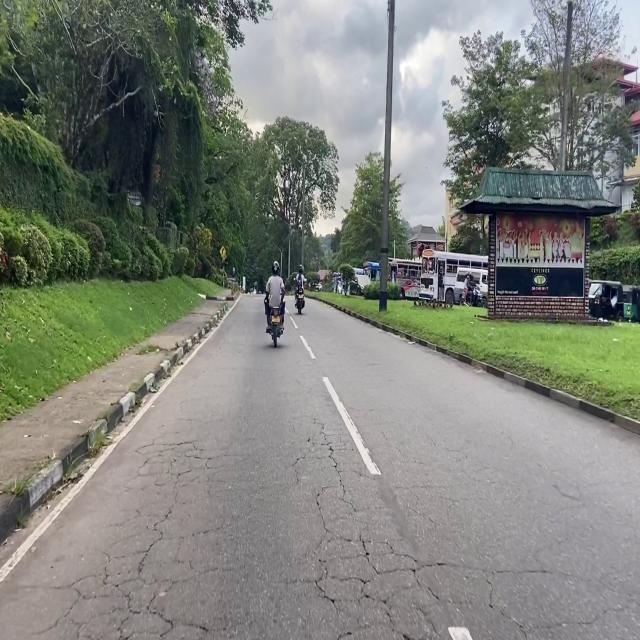bus: (419, 249, 488, 303), (388, 258, 421, 299), (363, 261, 380, 280)
car: (350, 274, 370, 296)
motorcycle: (271, 308, 283, 347), (460, 286, 481, 306), (297, 289, 305, 314)
person: (265, 261, 285, 332), (295, 264, 305, 303), (467, 274, 474, 304), (463, 273, 469, 300)
three wheeler: (589, 281, 623, 319), (623, 285, 640, 322)
van: (454, 266, 487, 306)
